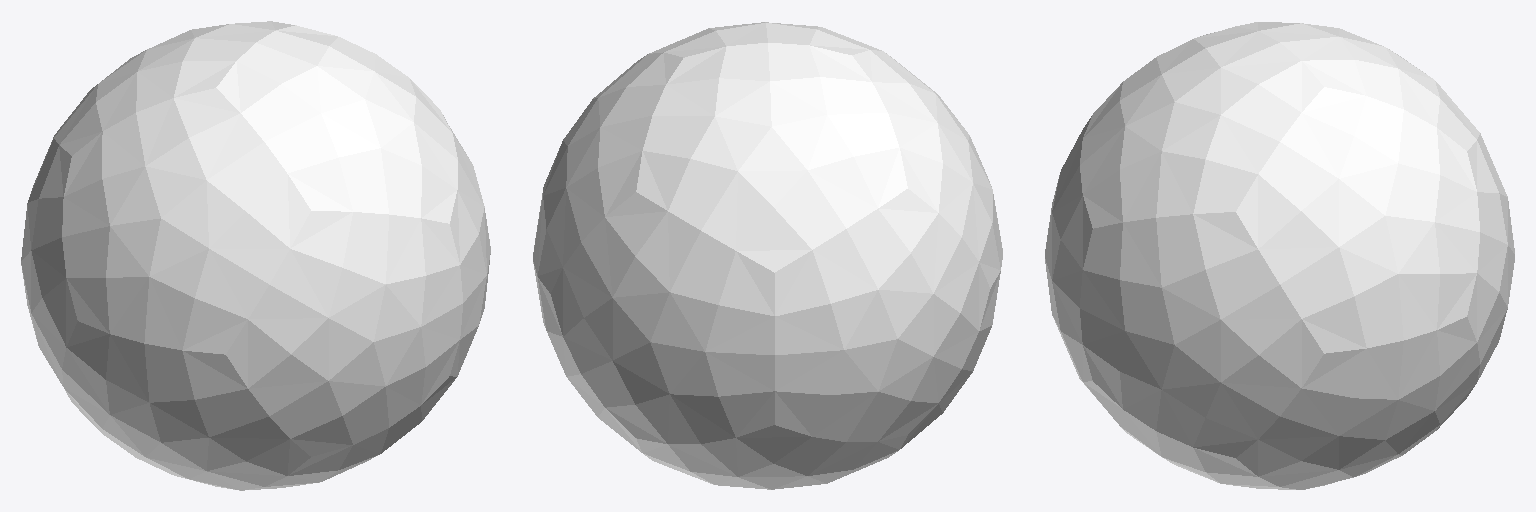
File: orb_2.obj
The picture shows the model from 3 angles: view 1: azimuth 30°, elevation 25°; view 2: azimuth 150°, elevation 25°; view 3: azimuth 270°, elevation 25°; orthographic projection.
Visible parts, largest first — view 1: pPlatonic1; view 2: pPlatonic1; view 3: pPlatonic1.
Boxes of the visible parts, x1,y1,x2,y2 form: pPlatonic1: [21, 21, 490, 490]; pPlatonic1: [533, 22, 1002, 489]; pPlatonic1: [1045, 22, 1514, 489].
Size of the model in its own units: 1.99 by 2 by 2.